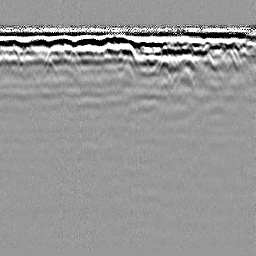cavity: (118, 40, 136, 60)
